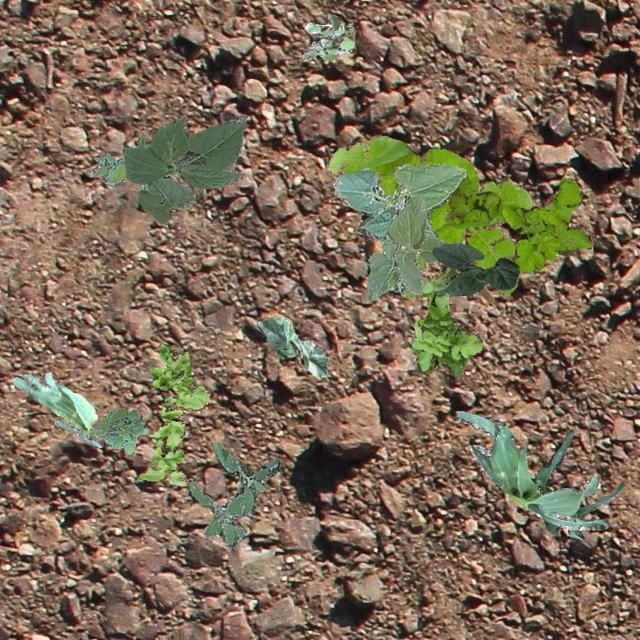crop: (454, 409, 608, 528), (332, 162, 464, 290), (124, 112, 246, 224), (12, 372, 146, 446), (536, 428, 622, 540), (366, 198, 446, 300), (432, 242, 518, 294), (256, 316, 326, 376)
weed: (328, 134, 530, 296), (444, 172, 592, 272), (138, 342, 208, 484), (188, 442, 280, 548), (399, 264, 482, 376), (89, 133, 150, 190), (94, 406, 142, 454), (302, 12, 352, 58)
